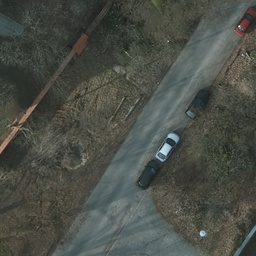car: (186, 88, 208, 122), (156, 132, 181, 161), (139, 156, 159, 190), (235, 5, 255, 36)
